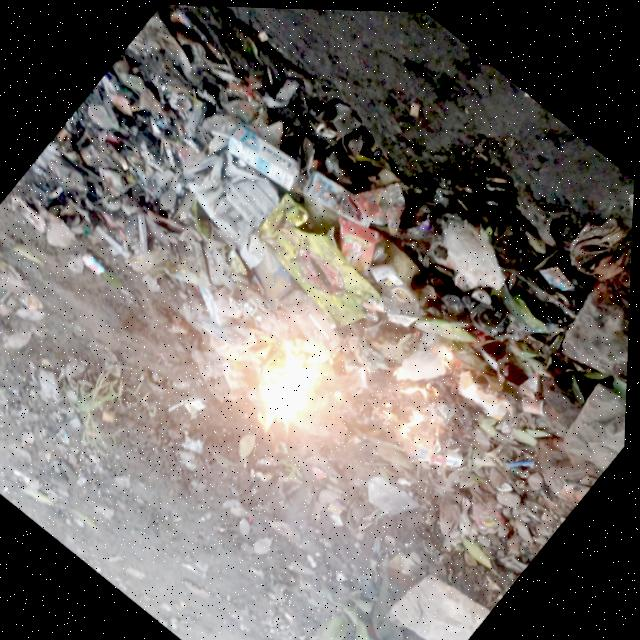Fire: (199, 293, 364, 456)
